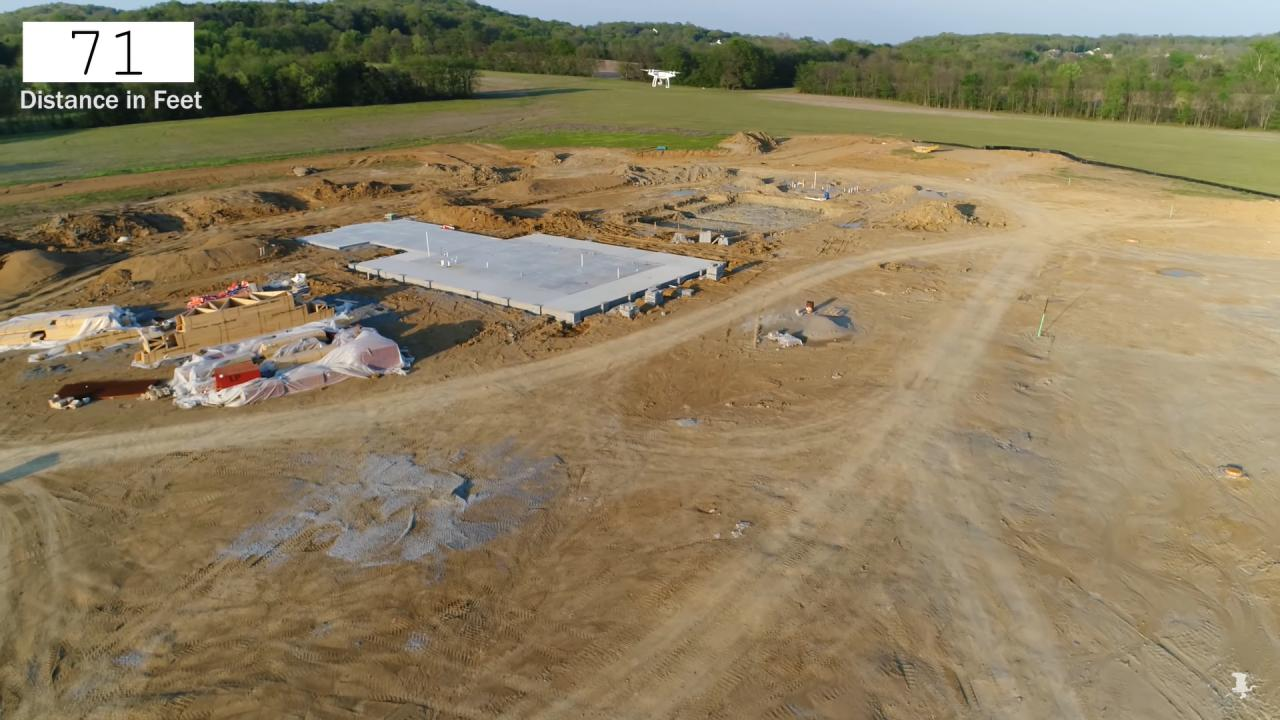Drone: (634, 60, 688, 97)
